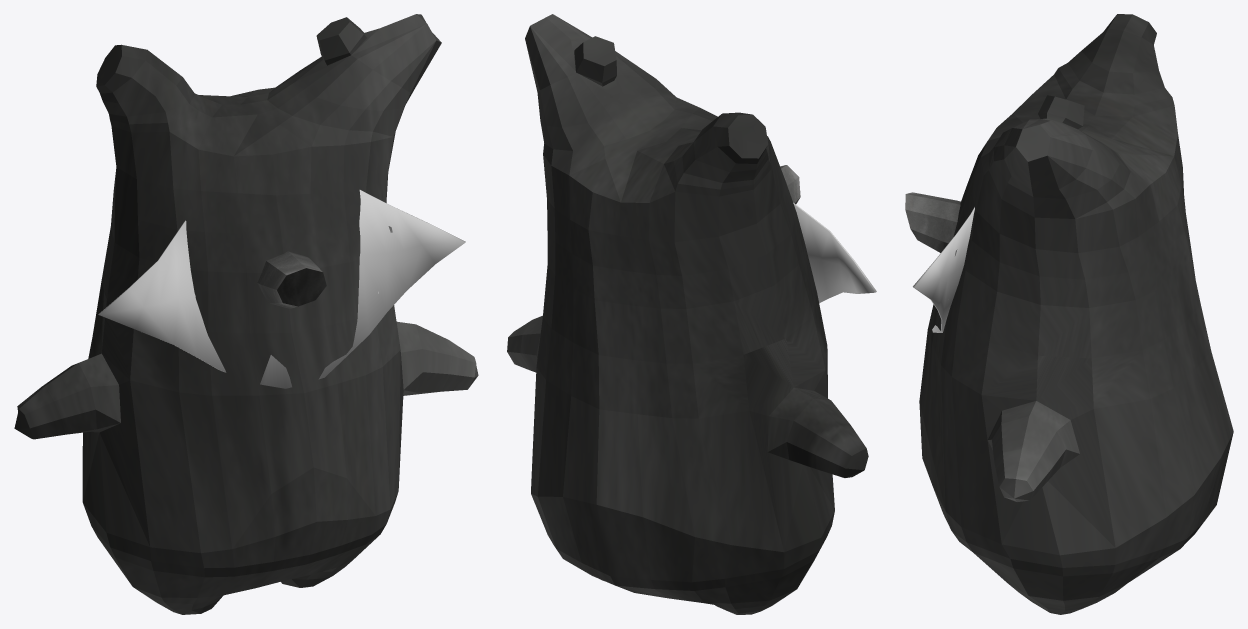
File: frame_0125.obj
The picture shows the model from 3 angles, left to right: view 1: azimuth 30°, elevation 25°; view 2: azimuth 150°, elevation 25°; view 3: azimuth 270°, elevation 25°; orthographic projection. The views are drawn at different scales.
Visible parts, largest first — view 1: korok, leaf, nose; view 2: korok, leaf; view 3: korok, leaf, nose.
Part boxes in pixels (x1=…): korok: x1=14, y1=14, x2=478, y2=614; leaf: x1=98, y1=190, x2=465, y2=388; nose: x1=257, y1=251, x2=326, y2=308; korok: x1=507, y1=14, x2=868, y2=614; leaf: x1=793, y1=202, x2=876, y2=302; korok: x1=919, y1=14, x2=1233, y2=614; leaf: x1=913, y1=207, x2=974, y2=332; nose: x1=905, y1=192, x2=960, y2=252.
Size of the model in its own units: 1.71 by 2.18 by 1.21.
